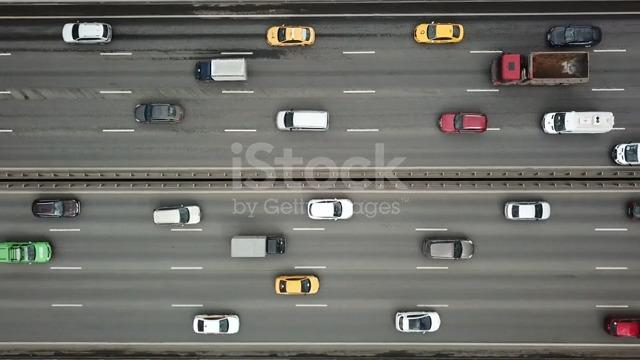Cars: (541, 111, 624, 135), (547, 24, 602, 48), (276, 109, 330, 132), (1, 240, 52, 264), (62, 22, 113, 45), (414, 22, 464, 45), (267, 25, 316, 48), (439, 111, 488, 134), (307, 198, 354, 221), (134, 103, 185, 124), (153, 205, 202, 226), (275, 275, 320, 296), (504, 201, 551, 221), (612, 142, 640, 166)
